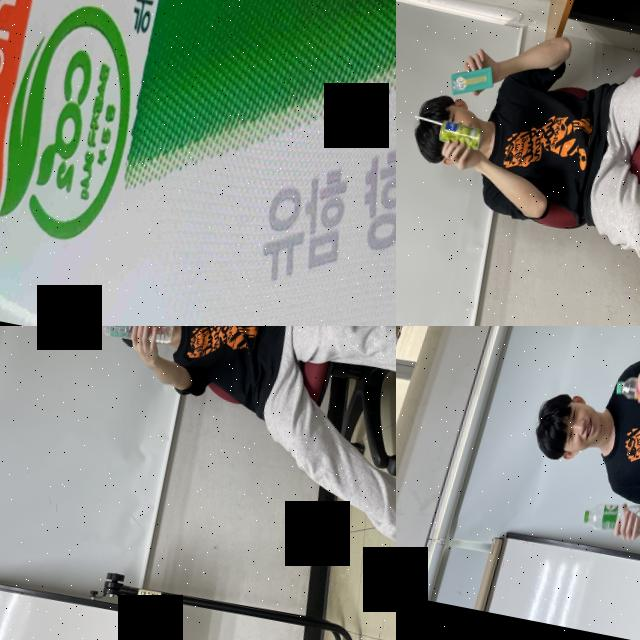bottle: (581, 490, 640, 539), (88, 326, 176, 348), (615, 367, 640, 408)
can: (438, 118, 486, 152)
